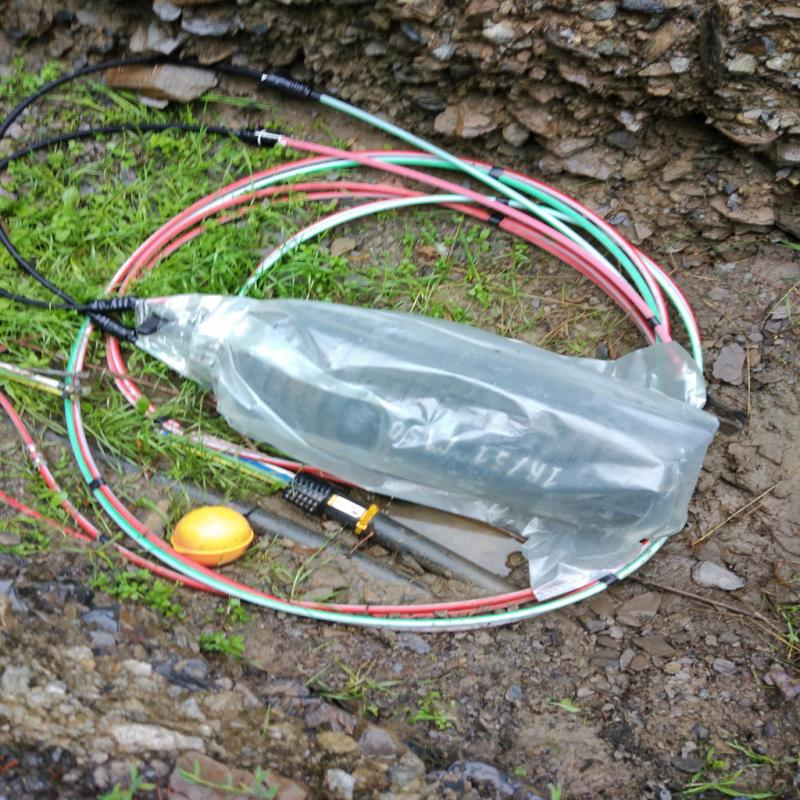NT-Muffen: (87, 286, 738, 592)
